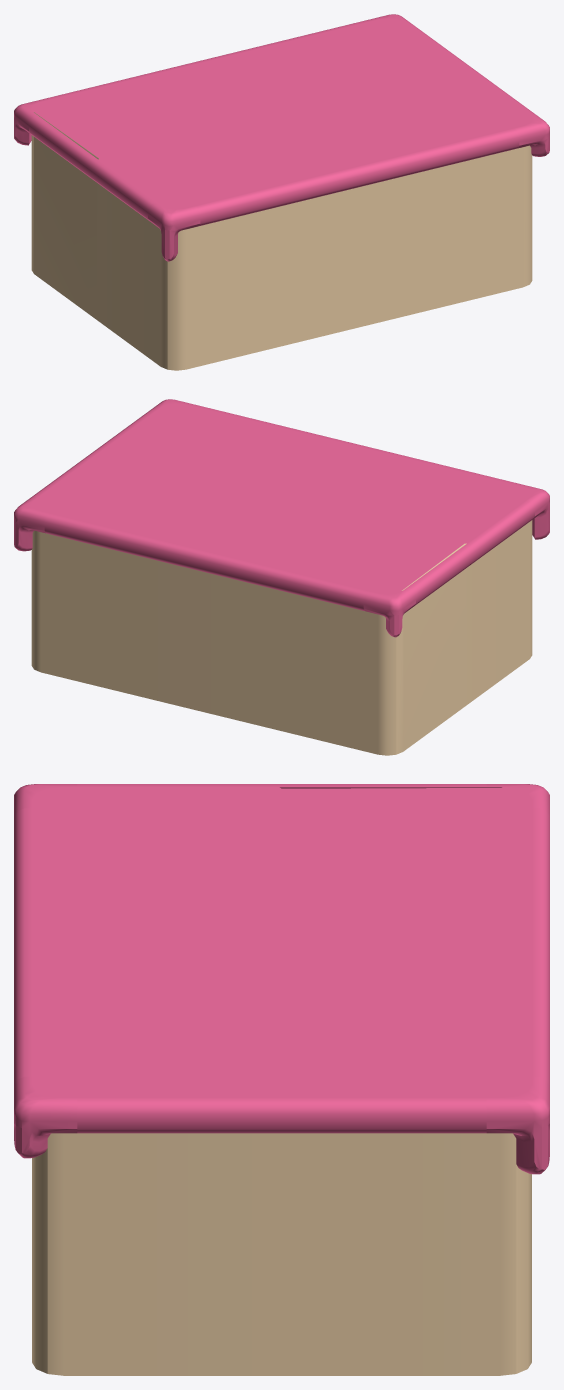
The model's file is SM_Mountain_3.fbx.
3 views of the same model, one above another, from view 1: azimuth 30°, elevation 25°; view 2: azimuth 150°, elevation 25°; view 3: azimuth 270°, elevation 25° (orthographic). The views are drawn at different scales.
Visible parts, largest first — view 1: SM_Mountain_7; view 2: SM_Mountain_7; view 3: SM_Mountain_7.
Part boxes in pixels (box(x1,y1,x2,y2)): SM_Mountain_7: box(14, 14, 549, 370); SM_Mountain_7: box(14, 399, 549, 755); SM_Mountain_7: box(14, 784, 549, 1375).
Bounding box in the file's own units: 5590 × 2228 × 3890.
1 material, 1 textured.
